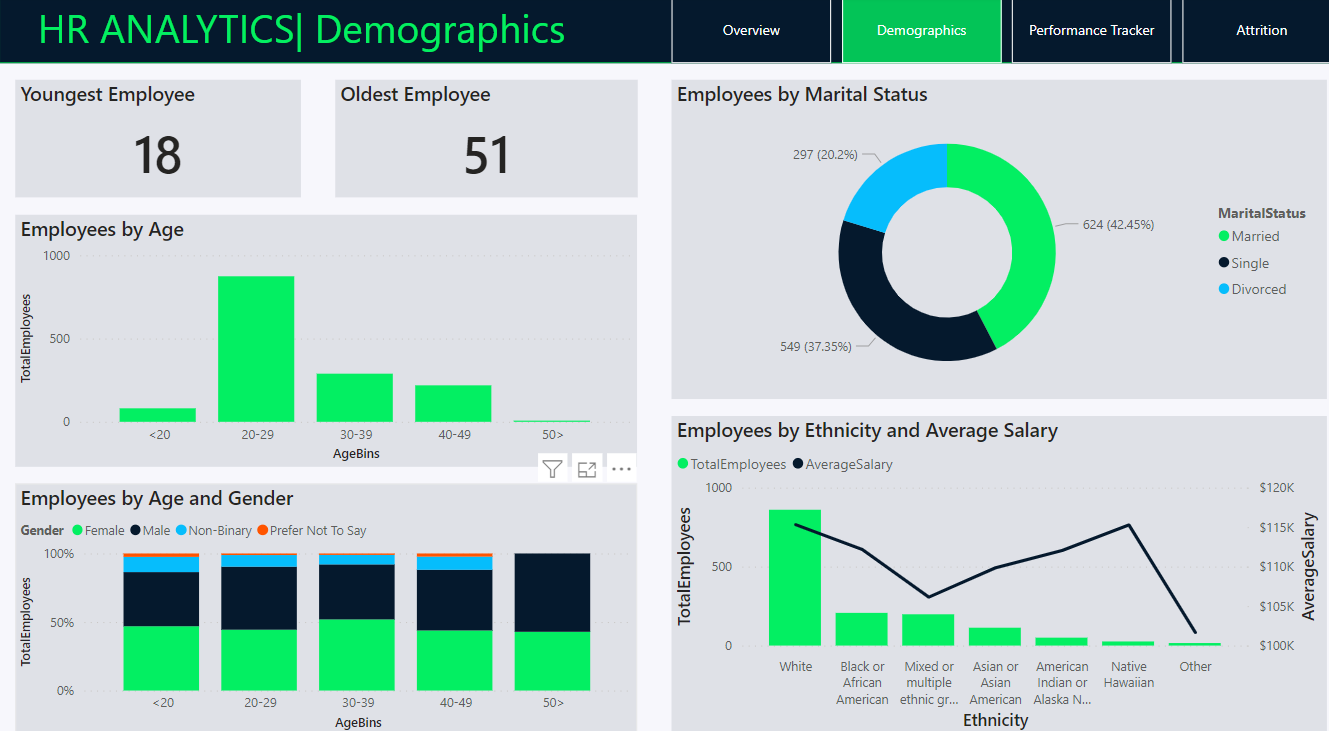

Layout of this report page (visuals, bound fields, positions):
{"tool":"powerbi","page":{"name":"Demographics","canvas":[1280,720],"ordinal":1},"visuals":[{"type":"card","title":"Youngest Employee","fields":{"Values":["Sum(DimEmployee.Age)"]},"box":[16,80,272,112],"z":0},{"type":"card","title":"Oldest Employee","fields":{"Values":["Sum(DimEmployee.Age)"]},"box":[320,80,288,112],"z":1000},{"type":"columnChart","title":"Employees by Age","fields":{"Category":["DimEmployee.AgeBins"],"Y":["_Measures.TotalEmployees"]},"box":[16,208,592,240],"z":2000},{"type":"hundredPercentStackedColumnChart","title":"Employees by Age and Gender","fields":{"Category":["DimEmployee.AgeBins"],"Series":["DimEmployee.Gender"],"Y":["_Measures.TotalEmployees"]},"box":[16,464,592,240],"z":3000},{"type":"donutChart","title":"Employees by Marital Status","fields":{"Category":["DimEmployee.MaritalStatus"],"Y":["_Measures.TotalEmployees"]},"box":[640,80,624,304],"z":4000},{"type":"lineStackedColumnComboChart","title":"Employees by Ethnicity and Average Salary","fields":{"Category":["DimEmployee.Ethnicity"],"Y":["_Measures.TotalEmployees"],"Y2":["_Measures.AverageSalary"]},"box":[640,400,624,304],"z":5000},{"type":"shape","box":[0,0,1280,64],"z":6000},{"type":"textbox","box":[32,0,624,64],"z":7000},{"type":"pageNavigator","box":[640,0,640,64],"z":8000}]}

Visuals, with their boxes in screenshot pixels (x1, y1, x2, y2), scaled from the page's 1280x720 canvas onto the 1329x731 screenshot:
"Youngest Employee" card: l=17, t=81, r=299, b=195
"Oldest Employee" card: l=332, t=81, r=631, b=195
"Employees by Age" columnChart: l=17, t=211, r=631, b=455
"Employees by Age and Gender" hundredPercentStackedColumnChart: l=17, t=471, r=631, b=715
"Employees by Marital Status" donutChart: l=664, t=81, r=1312, b=390
"Employees by Ethnicity and Average Salary" lineStackedColumnComboChart: l=664, t=406, r=1312, b=715
shape: l=0, t=0, r=1328, b=65
textbox: l=33, t=0, r=681, b=65
pageNavigator: l=664, t=0, r=1328, b=65
